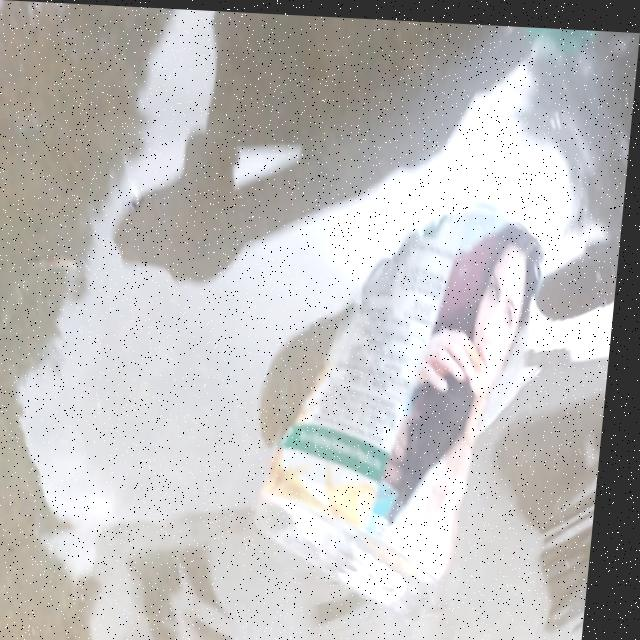waterbottle: (250, 12, 640, 631)
